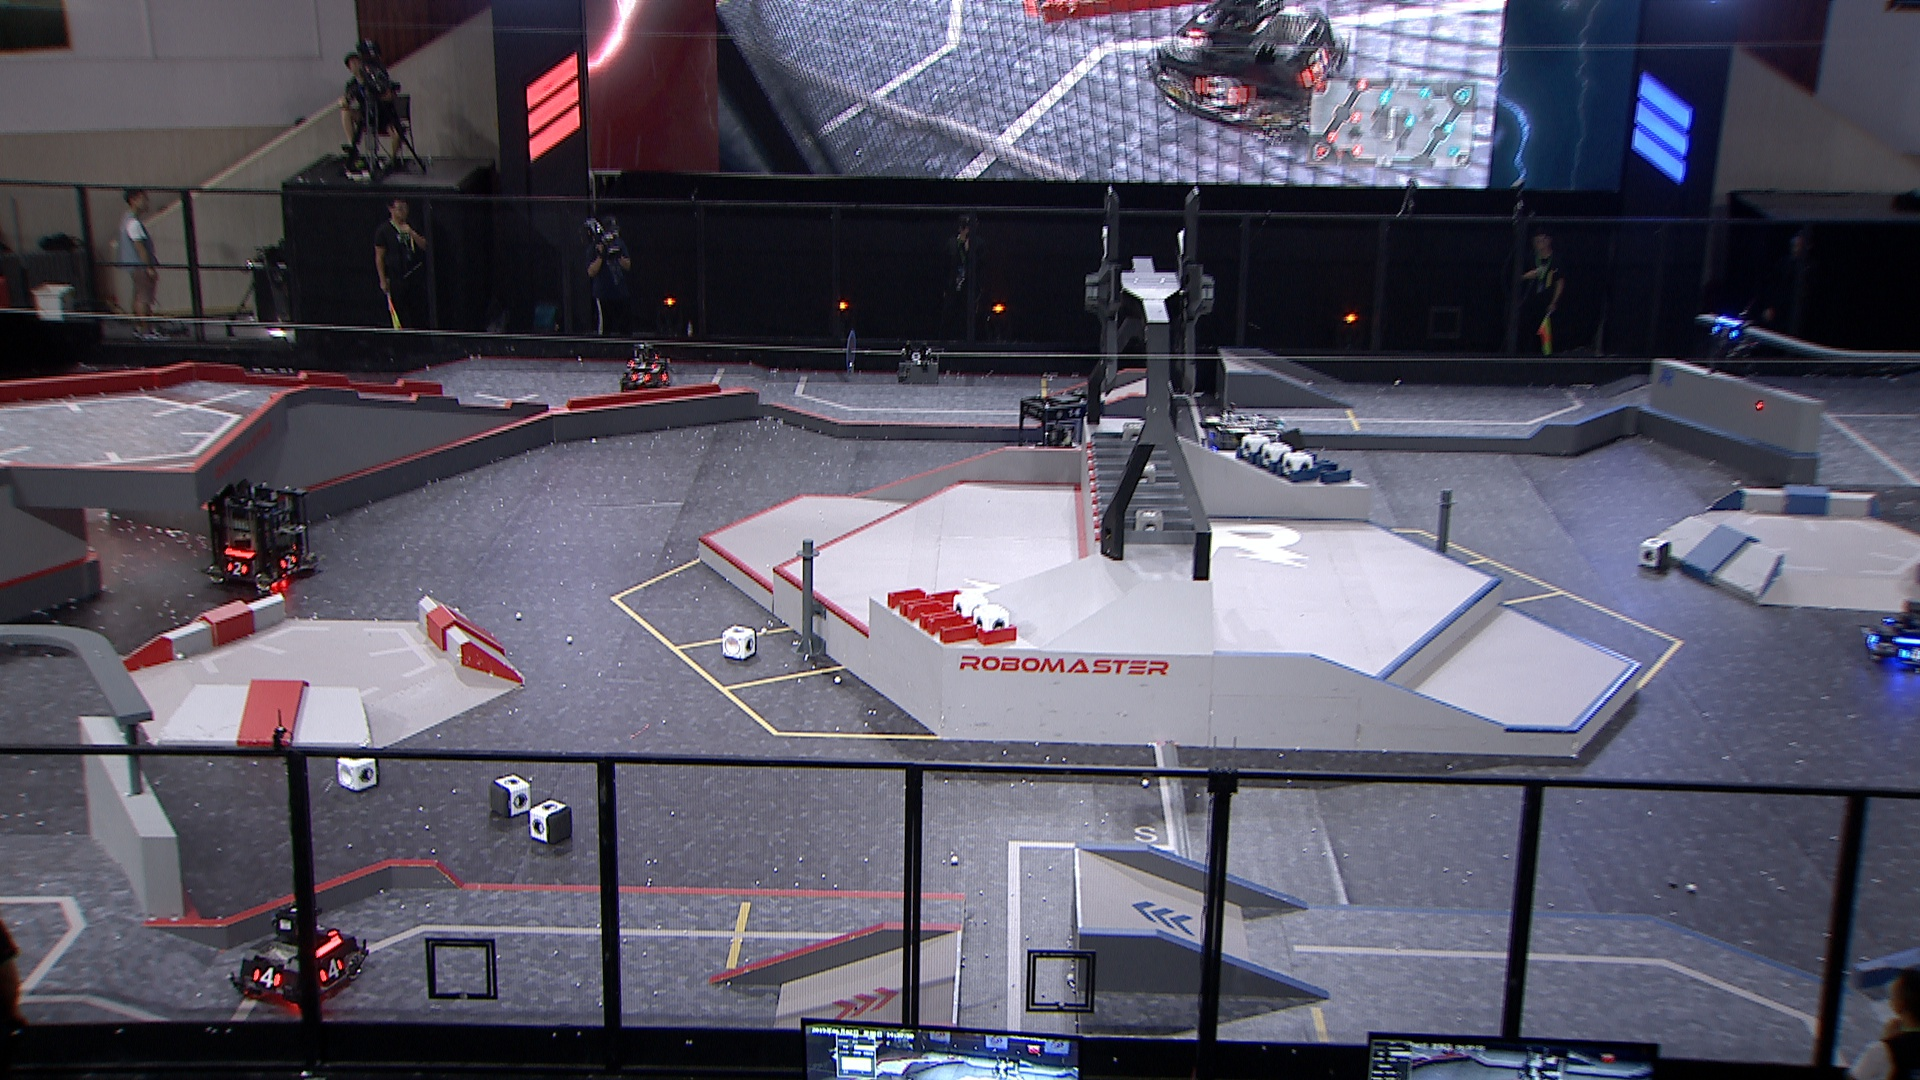armor: (318, 957, 347, 984), (252, 964, 282, 989), (1898, 645, 1920, 666), (1709, 324, 1741, 339), (278, 553, 299, 572), (225, 560, 248, 578), (632, 371, 651, 385)
car: (229, 897, 368, 1007), (200, 480, 320, 591), (1015, 389, 1110, 493), (1197, 406, 1288, 495), (1865, 597, 1920, 676), (618, 339, 671, 392)
ignore: (1147, 1, 1346, 128)
watcher: (1708, 315, 1760, 371)
